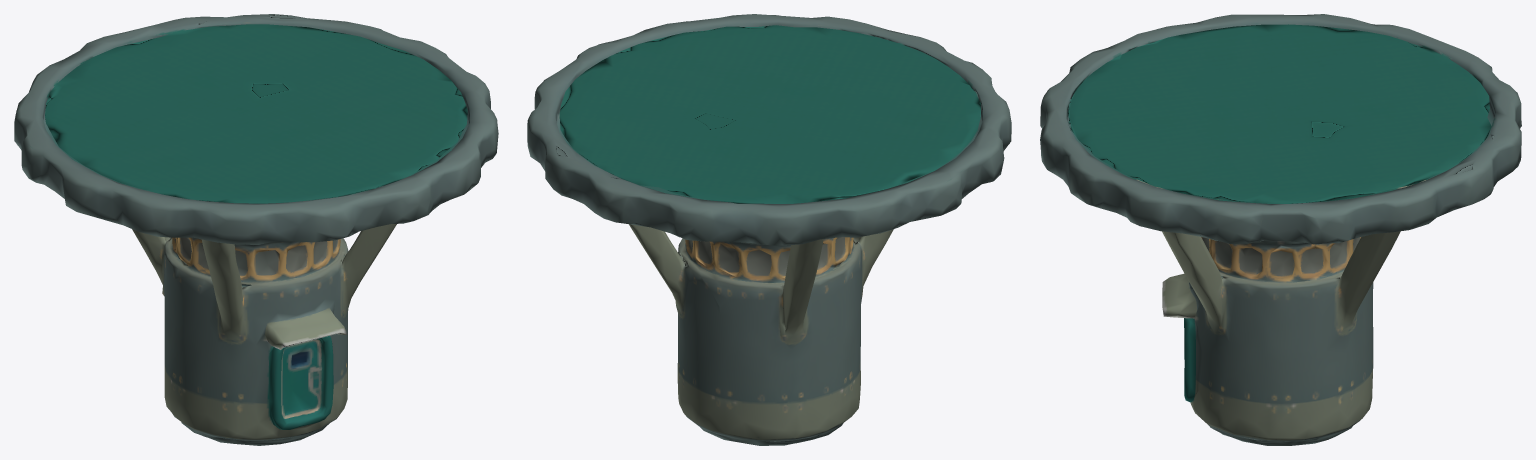
Rendered from kupol-grib.glb.
The picture shows the model from 3 angles, left to right: view 1: azimuth 30°, elevation 25°; view 2: azimuth 150°, elevation 25°; view 3: azimuth 270°, elevation 25°; orthographic projection.
Visible parts, largest first — view 1: geometry_0; view 2: geometry_0; view 3: geometry_0.
Boxes of the visible parts, x1,y1,x2,y2 form: geometry_0: (14, 14, 498, 445); geometry_0: (527, 14, 1011, 445); geometry_0: (1040, 14, 1521, 445).
Size of the model in its own units: 0.9994 by 0.691 by 0.9983.
1 material, 1 textured.
